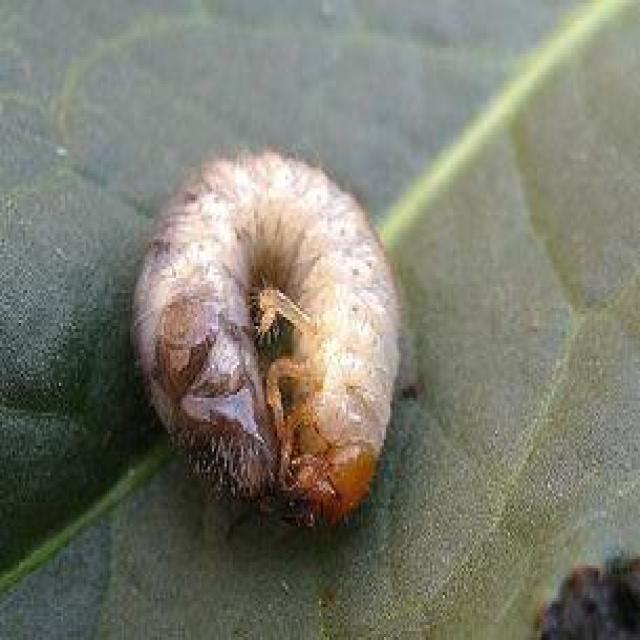Grub-Adult-: (126, 138, 420, 510)
